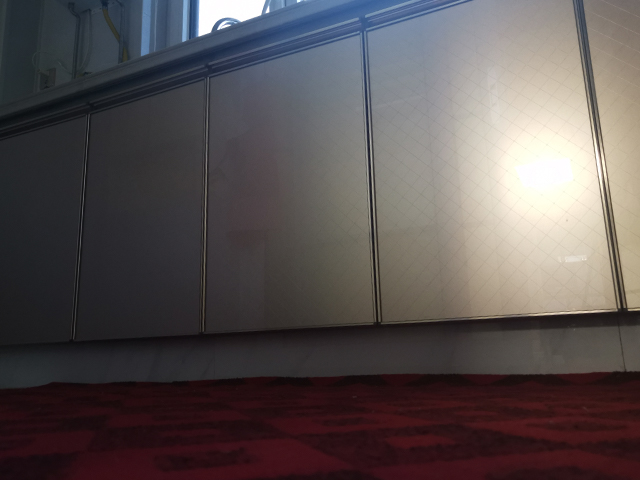cabinet: (1, 1, 640, 382)
carpet: (1, 369, 640, 480)
